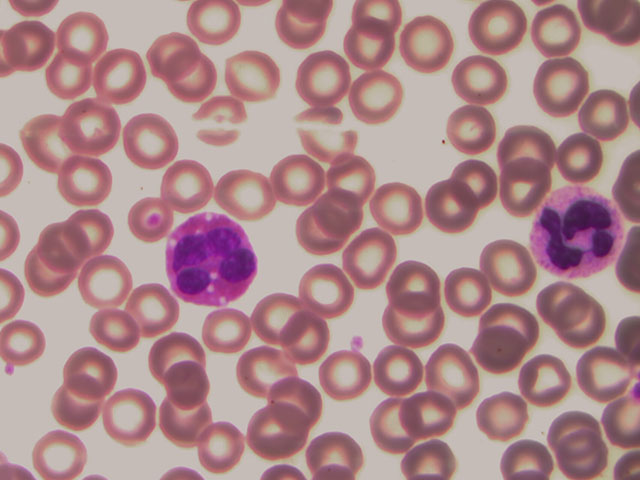Platelets: (348, 331, 367, 350), (1, 361, 18, 380)
RBC: (290, 52, 356, 106), (553, 426, 619, 480), (345, 70, 411, 123), (341, 20, 407, 73), (395, 20, 461, 73), (451, 53, 517, 106), (440, 96, 506, 149), (445, 159, 511, 212), (424, 177, 490, 230), (372, 181, 438, 234), (492, 122, 558, 175), (490, 156, 556, 209), (550, 136, 616, 189), (567, 87, 633, 140), (531, 55, 597, 108), (537, 278, 603, 331), (562, 300, 628, 353), (483, 298, 549, 351), (472, 319, 538, 372), (438, 267, 504, 320), (474, 241, 540, 294), (519, 357, 585, 410), (473, 394, 539, 447), (544, 399, 610, 452), (574, 345, 640, 398), (268, 1, 334, 53), (528, 1, 594, 53), (52, 8, 109, 61), (39, 44, 96, 97), (88, 45, 145, 98), (66, 97, 123, 150), (23, 114, 80, 167), (54, 154, 111, 207), (68, 202, 125, 255), (36, 218, 93, 271), (20, 244, 77, 297), (78, 254, 135, 307), (87, 295, 144, 348), (124, 278, 181, 331), (59, 343, 116, 396), (51, 377, 108, 430), (101, 390, 158, 443), (162, 401, 219, 454), (155, 362, 212, 415), (147, 329, 204, 382), (198, 304, 255, 357), (249, 291, 306, 344), (280, 317, 337, 370), (298, 266, 355, 319), (231, 341, 288, 394), (270, 368, 327, 421), (245, 405, 302, 458), (194, 422, 251, 475), (305, 427, 362, 480), (317, 349, 374, 402), (371, 343, 428, 396), (359, 398, 416, 451), (398, 387, 455, 440), (424, 350, 481, 403), (378, 293, 435, 346), (384, 262, 441, 315), (345, 226, 402, 279), (291, 206, 348, 259), (308, 186, 365, 239), (319, 151, 376, 204), (272, 150, 329, 203), (218, 160, 275, 213), (164, 157, 221, 210), (124, 188, 181, 241), (123, 115, 180, 168), (187, 92, 244, 145), (221, 53, 278, 106), (166, 53, 223, 106), (144, 31, 201, 84), (1, 18, 57, 71), (186, 1, 243, 53), (398, 437, 458, 480), (1, 320, 52, 359)
WBC: (161, 213, 264, 305), (524, 184, 627, 276)
